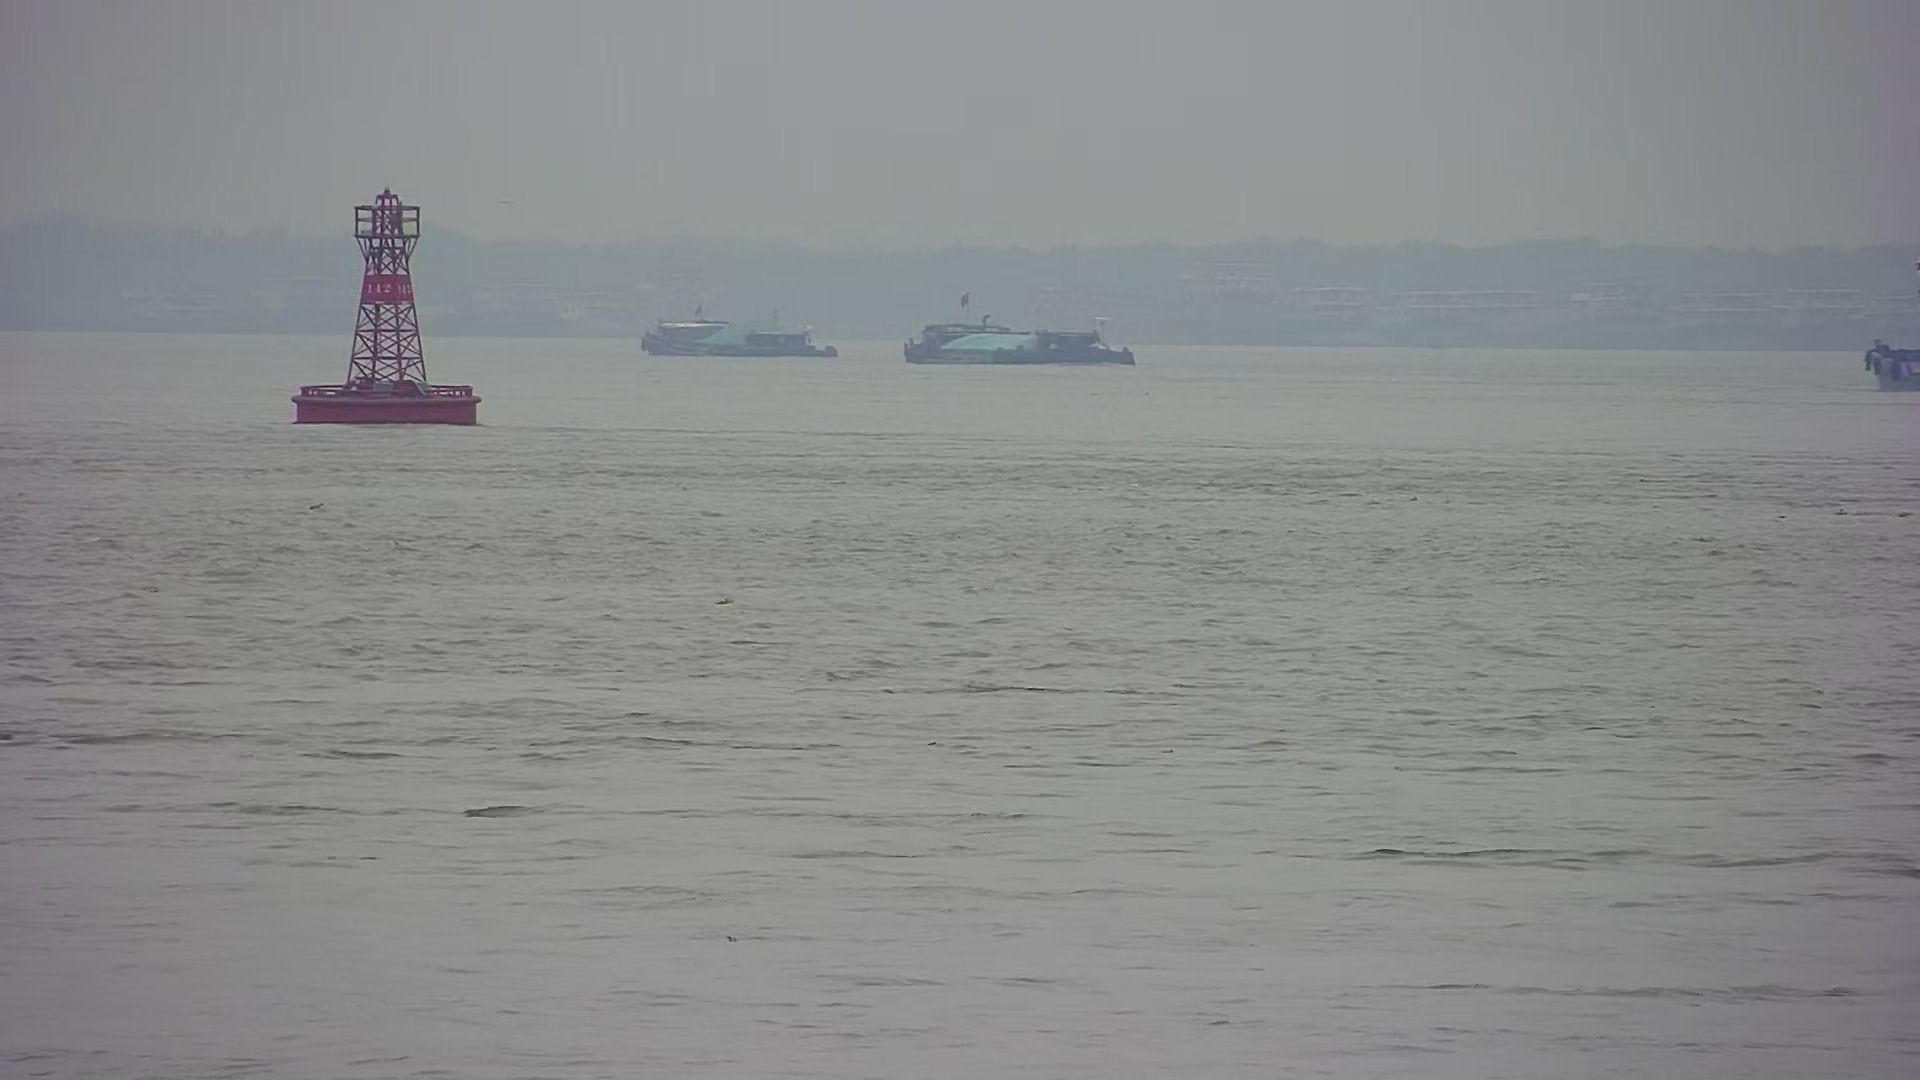platform: (287, 185, 485, 430)
ship: (899, 320, 1135, 371), (630, 315, 839, 363)
